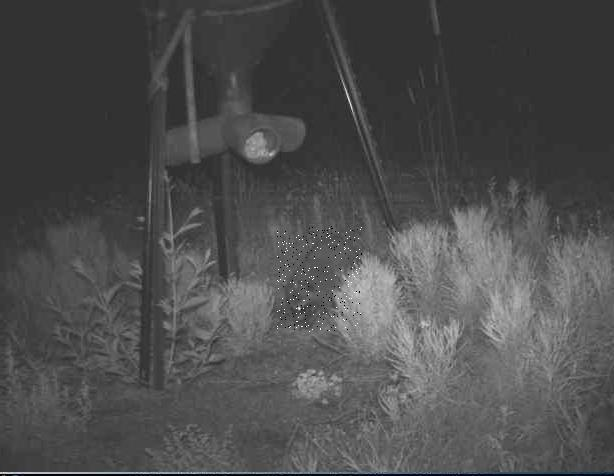Raccoon: (277, 226, 362, 332)
